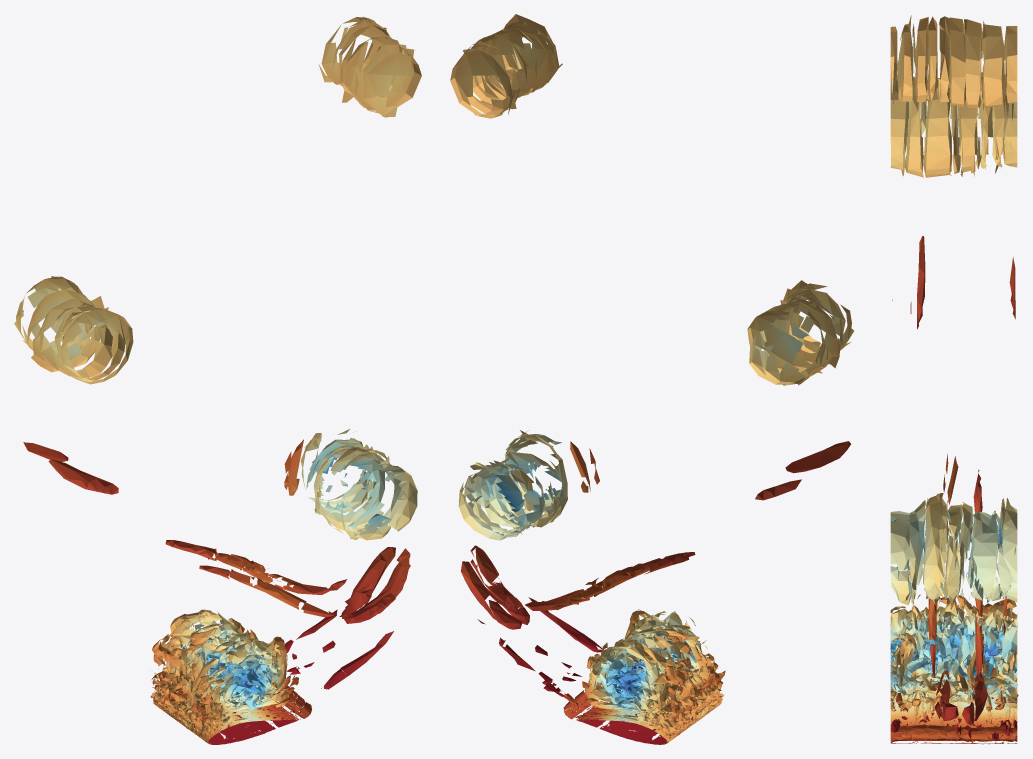
Rendered from flowfield_5_Pressure.glb.
3 views of the same model, side by side, from view 1: azimuth 30°, elevation 25°; view 2: azimuth 150°, elevation 25°; view 3: azimuth 270°, elevation 25° (orthographic). The views are drawn at different scales.
Visible parts, largest first — view 1: Renderer Node; view 2: Renderer Node; view 3: Renderer Node.
Part boxes in pixels (x1,y1,x2,y2): Renderer Node: [14, 16, 421, 744]; Renderer Node: [450, 14, 853, 744]; Renderer Node: [890, 15, 1018, 744].
Size of the model in its own units: 4.11 by 6.86 by 1.02.
1 material, 1 textured.
